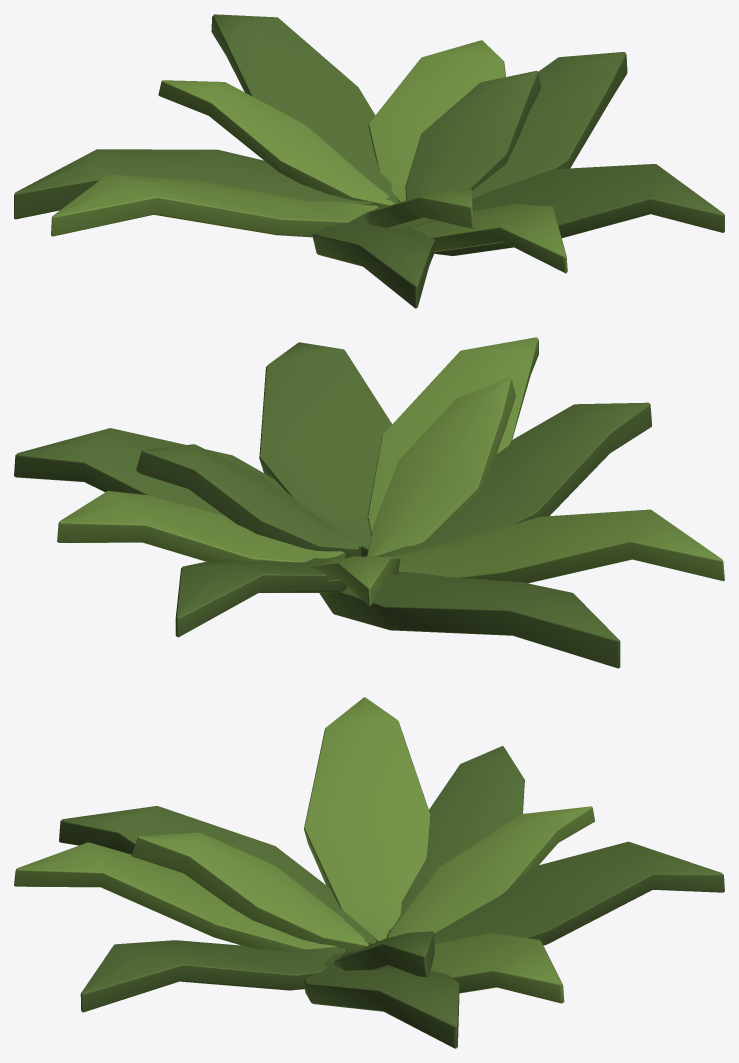
File: grass_low_moss_mix.glb
The picture shows the model from 3 angles, top to bottom: view 1: azimuth 30°, elevation 25°; view 2: azimuth 150°, elevation 25°; view 3: azimuth 270°, elevation 25°; orthographic projection. The views are drawn at different scales.
Parts seen in each view (by area): view 1: grass_low_moss_mix; view 2: grass_low_moss_mix; view 3: grass_low_moss_mix.
Boxes of the visible parts, x1,y1,x2,y2 form: grass_low_moss_mix: (14, 14, 724, 308); grass_low_moss_mix: (14, 337, 724, 668); grass_low_moss_mix: (14, 697, 724, 1048).
Bounding box in the file's own units: 0.3694 × 0.0678 × 0.3568.
